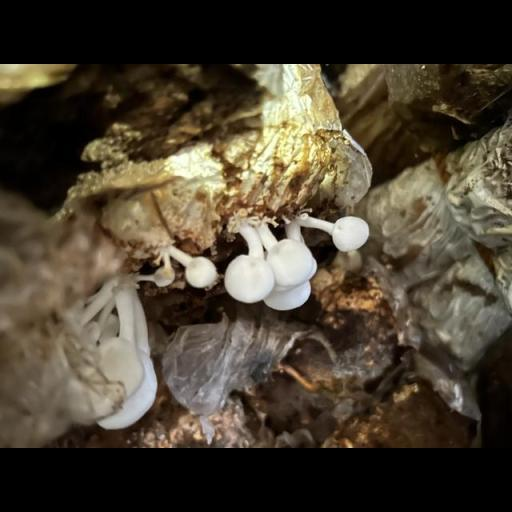White Oyster Mushroom: (82, 210, 370, 428)
